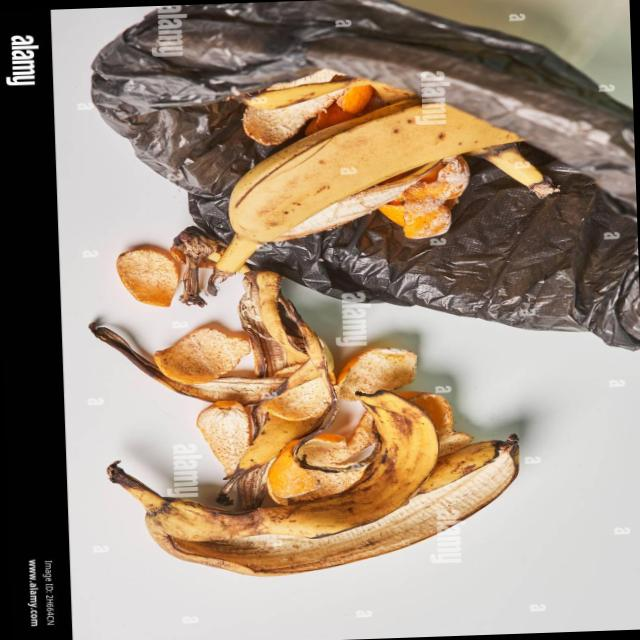banana_peel: (76, 260, 545, 577), (194, 43, 575, 296)
